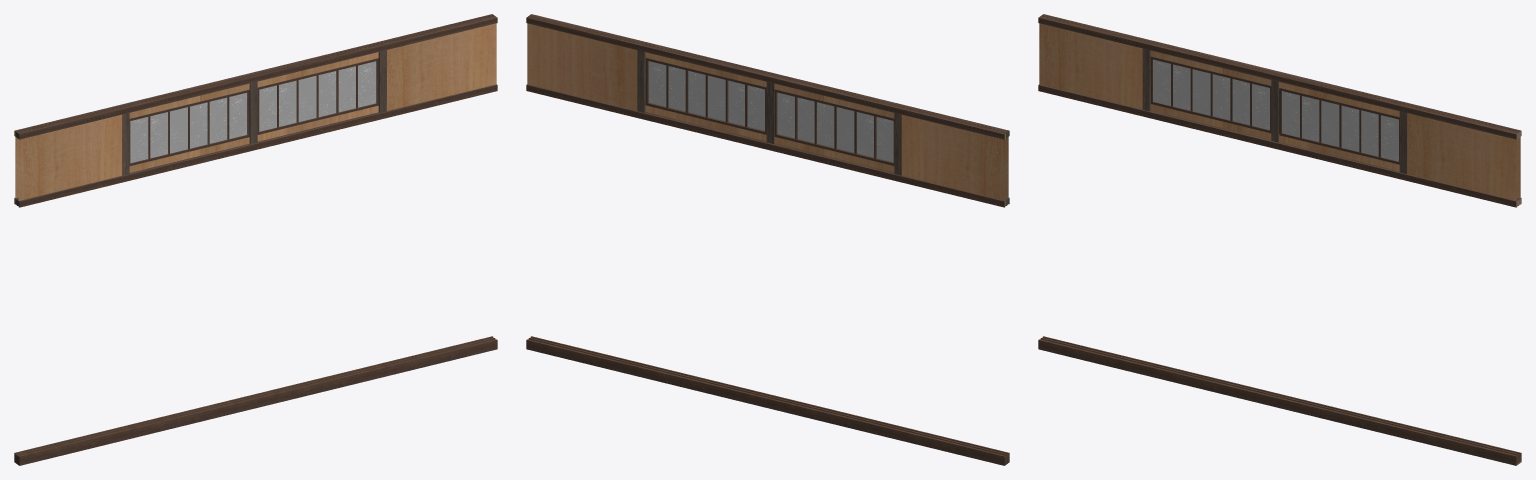
File: jov_inwall_ranma_2t01.fbx
3 renders of one model, left to right at view 1: azimuth 30°, elevation 25°; view 2: azimuth 150°, elevation 25°; view 3: azimuth 330°, elevation 25°, orthographic.
Parts seen in each view (by area): view 1: jov_inwall_ranma_2t01; view 2: jov_inwall_ranma_2t01; view 3: jov_inwall_ranma_2t01.
Part boxes in pixels (box(x1,y1,x2,y2)): jov_inwall_ranma_2t01: box(14, 14, 497, 465); jov_inwall_ranma_2t01: box(526, 14, 1009, 465); jov_inwall_ranma_2t01: box(1038, 14, 1521, 465).
Size of the model in its own units: 440 by 292 by 8.22.
